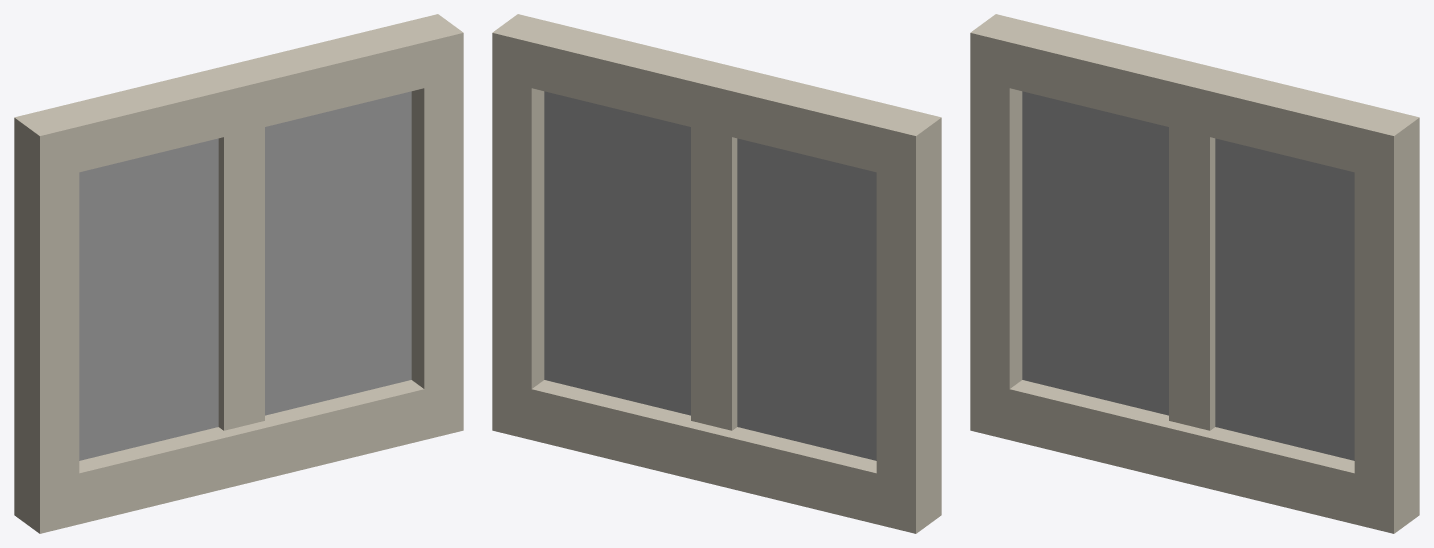
The model's file is Window_5A.fbx.
3 views of the same model, side by side, from view 1: azimuth 30°, elevation 25°; view 2: azimuth 150°, elevation 25°; view 3: azimuth 330°, elevation 25° (orthographic).
Visible parts, largest first — view 1: polySurface2316, Window_Glass7; view 2: polySurface2316, Window_Glass7; view 3: polySurface2316, Window_Glass7.
Boxes of the visible parts, x1,y1,x2,y2 form: polySurface2316: (14,14,463,533); Window_Glass7: (79,91,411,460); polySurface2316: (492,14,941,533); Window_Glass7: (544,91,876,460); polySurface2316: (970,14,1419,533); Window_Glass7: (1022,91,1354,460).
Bounding box in the file's own units: 1.43 × 1.28 × 0.15.
Materials: 2 (1 with a texture image).
